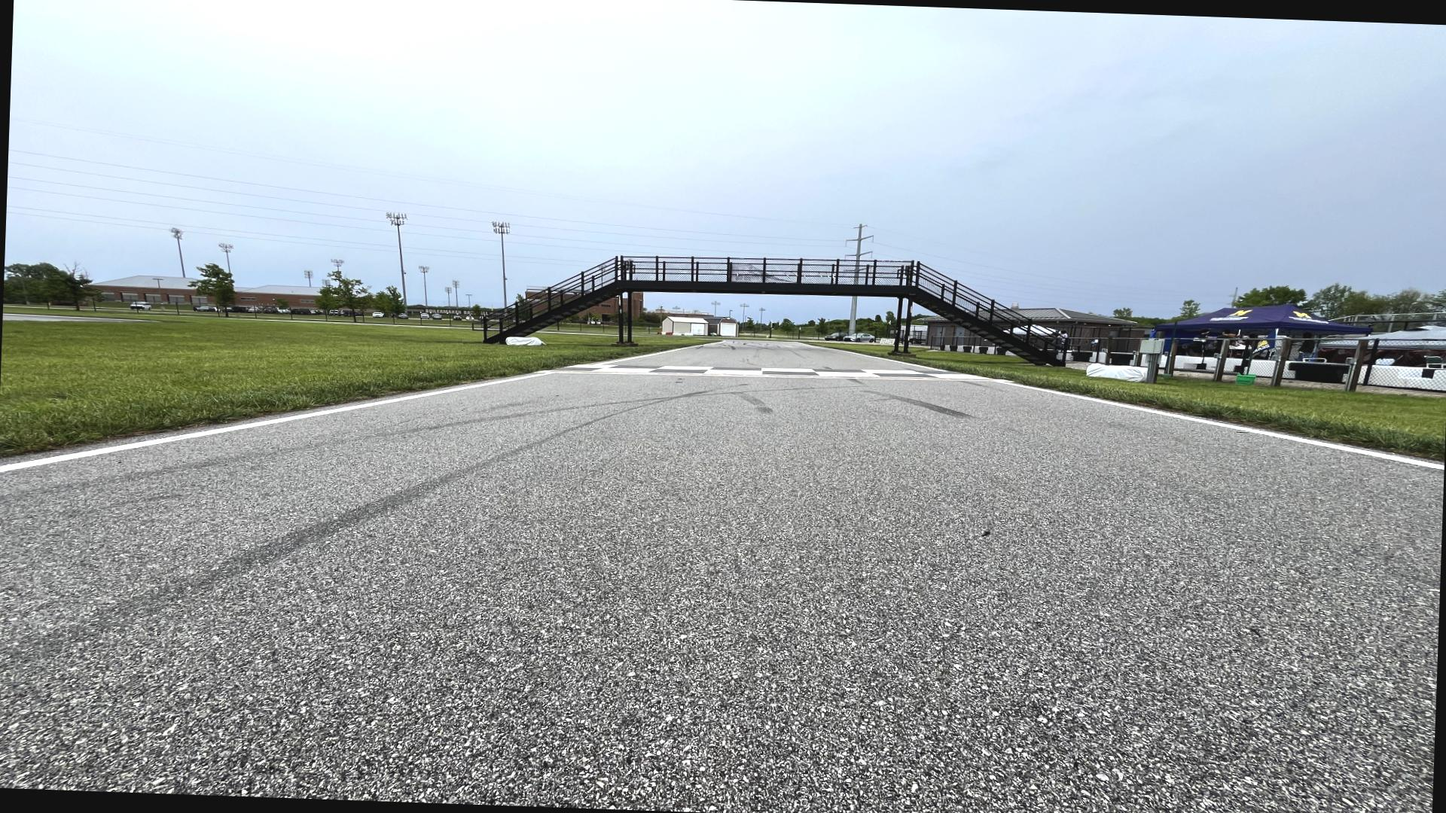white-line: (0, 373, 551, 473), (1001, 382, 1444, 470), (761, 341, 947, 371), (598, 342, 723, 365)
